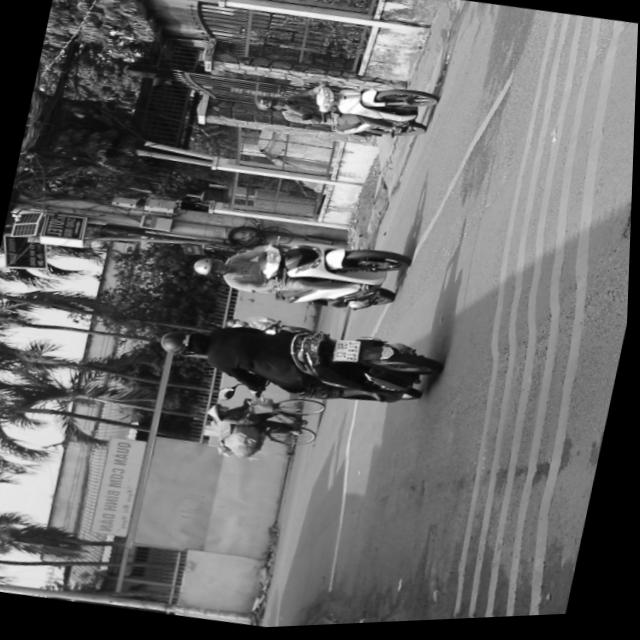helmet: (158, 326, 211, 362), (191, 255, 236, 282), (250, 93, 289, 117)
licenseplate: (148, 295, 446, 429), (185, 217, 414, 330), (245, 62, 443, 156)
nohelmet: (331, 340, 361, 367)
